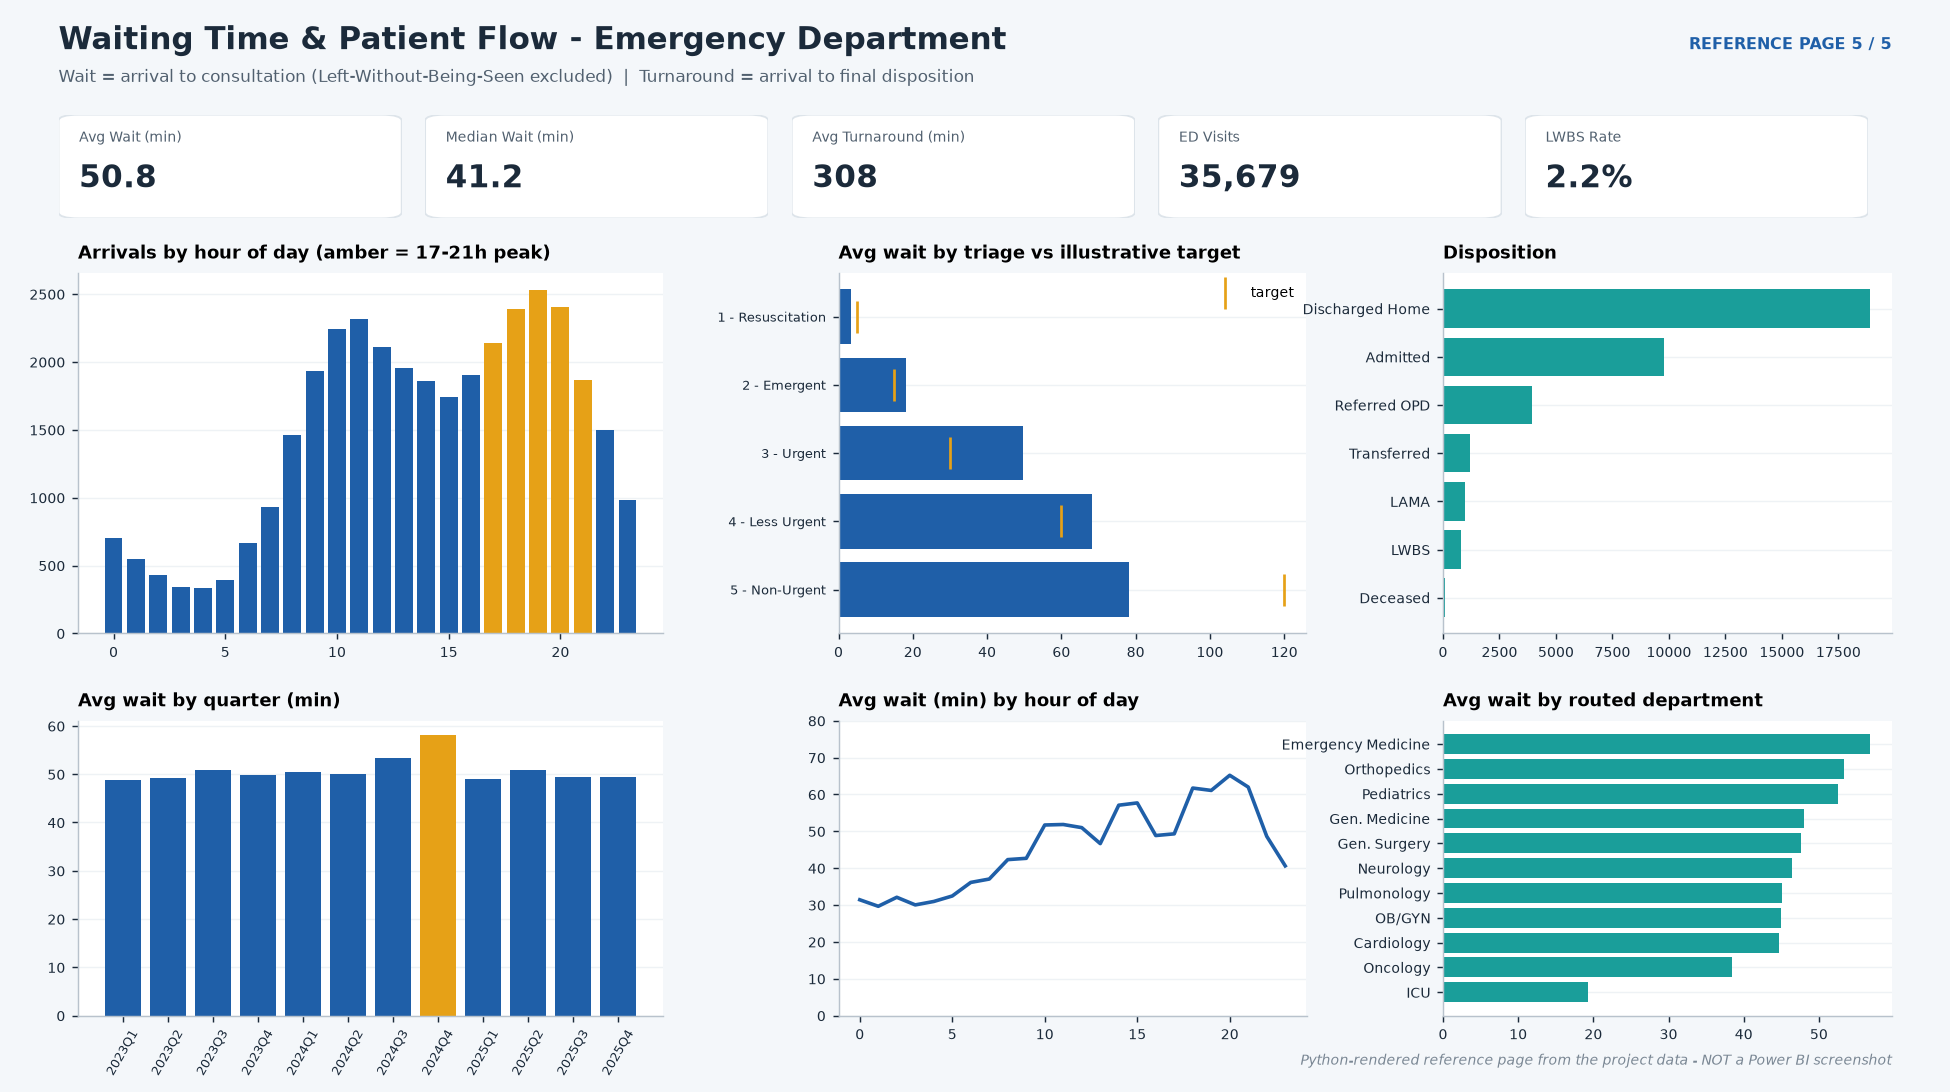

Layout of this report page (visuals, bound fields, positions):
{"tool":"powerbi","page":{"name":"Waiting Time & Patient Flow","canvas":[1280,720],"ordinal":4},"visuals":[{"type":"textbox","box":[16,2,900,44],"z":100},{"type":"textbox","box":[16,42,1240,30],"z":200},{"type":"textbox","box":[780,690,484,30],"z":300},{"type":"slicer","title":"Year","fields":{"Values":["DimDate.Year"]},"box":[16,70,220,58],"z":400},{"type":"slicer","title":"Triage level","fields":{"Values":["FactEmergencyVisits.TriageLabel"]},"box":[248,70,220,58],"z":500},{"type":"slicer","title":"Department","fields":{"Values":["DimDepartments.DepartmentName"]},"box":[480,70,220,58],"z":600},{"type":"card","title":"Avg wait (min)","fields":{"Values":["_Measures.Avg ED Wait (min)"]},"box":[16,132,236,80],"z":700},{"type":"card","title":"Median wait (min)","fields":{"Values":["_Measures.Median ED Wait (min)"]},"box":[264,132,236,80],"z":800},{"type":"card","title":"Avg turnaround (min)","fields":{"Values":["_Measures.ED Turnaround (min)"]},"box":[512,132,236,80],"z":900},{"type":"card","title":"ED visits","fields":{"Values":["_Measures.ED Visits"]},"box":[760,132,236,80],"z":1000},{"type":"card","title":"Left without being seen","fields":{"Values":["_Measures.LWBS Rate"]},"box":[1008,132,236,80],"z":1100},{"type":"clusteredColumnChart","title":"Arrivals by hour","fields":{"Category":["FactEmergencyVisits.ArrivalHour"],"Y":["_Measures.ED Visits"]},"box":[16,222,408,230],"z":1200},{"type":"lineChart","title":"Average wait by arrival hour (min)","fields":{"Category":["FactEmergencyVisits.ArrivalHour"],"Y":["_Measures.Avg ED Wait (min)"]},"box":[436,222,408,230],"z":1300},{"type":"clusteredBarChart","title":"Wait by triage level (min)","fields":{"Category":["FactEmergencyVisits.TriageLabel"],"Y":["_Measures.Avg ED Wait (min)"]},"box":[856,222,408,230],"z":1400},{"type":"clusteredBarChart","title":"Disposition","fields":{"Category":["FactEmergencyVisits.DispositionType"],"Y":["_Measures.ED Visits"]},"box":[16,464,408,218],"z":1500},{"type":"clusteredColumnChart","title":"ED visits by weekday","fields":{"Category":["DimDate.DayName"],"Y":["_Measures.ED Visits"]},"box":[436,464,408,218],"z":1600},{"type":"lineChart","title":"ED turnaround: admitted vs all (min)","fields":{"Category":["DimDate.YearMonth"],"Y":["_Measures.ED Turnaround - Admitted (min)","_Measures.ED Turnaround (min)"]},"box":[856,464,408,218],"z":1700}]}

Visuals, with their boxes in screenshot pixels (x1, y1, x2, y2), scaled from the page's 1280x720 canvas onto the 1950x1092 screenshot:
textbox: {"x1": 24, "y1": 3, "x2": 1395, "y2": 70}
textbox: {"x1": 24, "y1": 64, "x2": 1913, "y2": 109}
textbox: {"x1": 1188, "y1": 1046, "x2": 1926, "y2": 1091}
"Year" slicer: {"x1": 24, "y1": 106, "x2": 360, "y2": 194}
"Triage level" slicer: {"x1": 378, "y1": 106, "x2": 713, "y2": 194}
"Department" slicer: {"x1": 731, "y1": 106, "x2": 1066, "y2": 194}
"Avg wait (min)" card: {"x1": 24, "y1": 200, "x2": 384, "y2": 322}
"Median wait (min)" card: {"x1": 402, "y1": 200, "x2": 762, "y2": 322}
"Avg turnaround (min)" card: {"x1": 780, "y1": 200, "x2": 1140, "y2": 322}
"ED visits" card: {"x1": 1158, "y1": 200, "x2": 1517, "y2": 322}
"Left without being seen" card: {"x1": 1536, "y1": 200, "x2": 1895, "y2": 322}
"Arrivals by hour" clusteredColumnChart: {"x1": 24, "y1": 337, "x2": 646, "y2": 686}
"Average wait by arrival hour (min)" lineChart: {"x1": 664, "y1": 337, "x2": 1286, "y2": 686}
"Wait by triage level (min)" clusteredBarChart: {"x1": 1304, "y1": 337, "x2": 1926, "y2": 686}
"Disposition" clusteredBarChart: {"x1": 24, "y1": 704, "x2": 646, "y2": 1034}
"ED visits by weekday" clusteredColumnChart: {"x1": 664, "y1": 704, "x2": 1286, "y2": 1034}
"ED turnaround: admitted vs all (min)" lineChart: {"x1": 1304, "y1": 704, "x2": 1926, "y2": 1034}
